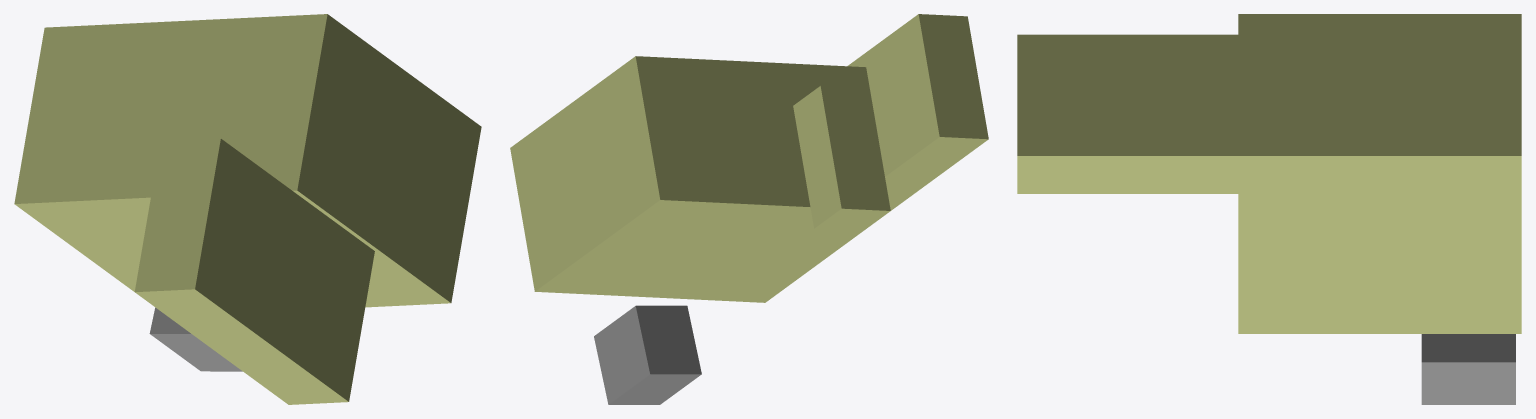
3 views of the same model, side by side, from view 1: azimuth 30°, elevation 25°; view 2: azimuth 150°, elevation 25°; view 3: azimuth 270°, elevation 25° (orthographic). The views are drawn at different scales.
Parts seen in each view (by area): view 1: 0_1_2_0_3_3_2_0_1_1_0; view 2: 0_1_2_0_3_3_2_0_1_1_0; view 3: 0_1_2_0_3_3_2_0_1_1_0.
Part boxes in pixels (x1=…): 0_1_2_0_3_3_2_0_1_1_0: x1=14, y1=14, x2=481, y2=404; 0_1_2_0_3_3_2_0_1_1_0: x1=510, y1=14, x2=988, y2=404; 0_1_2_0_3_3_2_0_1_1_0: x1=1017, y1=14, x2=1521, y2=404.
Bounding box in the file's own units: 10.57 × 11.1 × 16.03.
